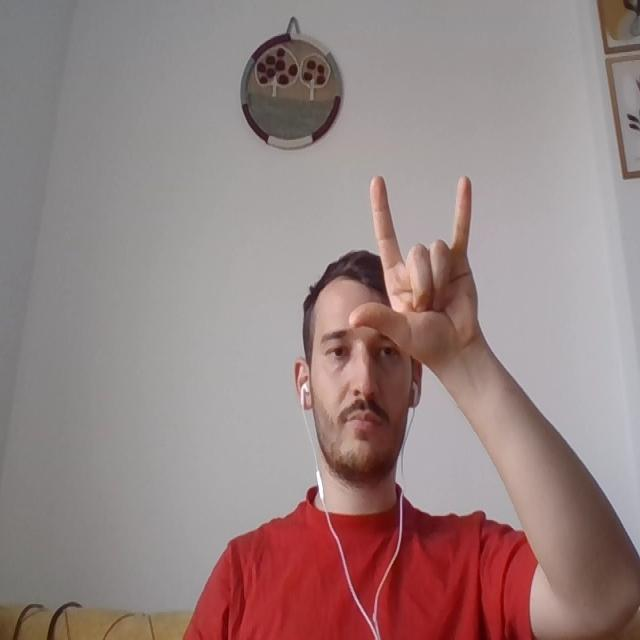i love you: (350, 184, 485, 356)
